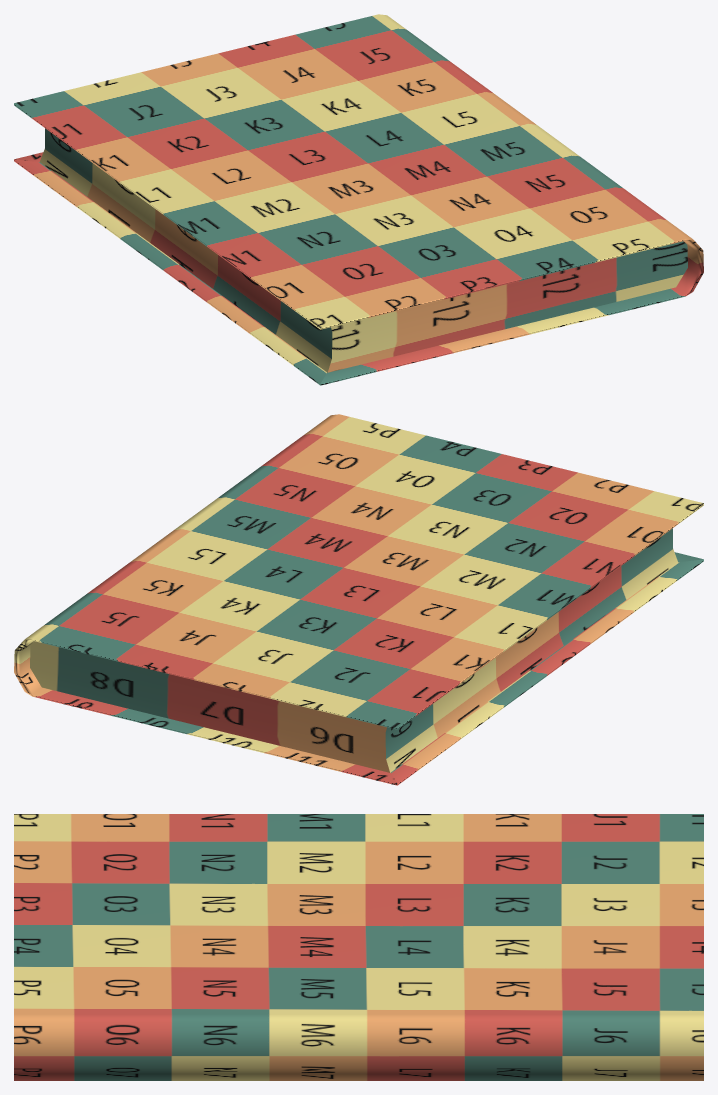
File: SM_Book_01a.fbx
3 renders of one model, top to bottom at view 1: azimuth 30°, elevation 25°; view 2: azimuth 150°, elevation 25°; view 3: azimuth 270°, elevation 25°, orthographic. The views are drawn at different scales.
Visible parts, largest first — view 1: SM_Book_01a; view 2: SM_Book_01a; view 3: SM_Book_01a.
Boxes of the visible parts, <box> form: SM_Book_01a: <box>14,14,703,385</box>; SM_Book_01a: <box>14,414,703,785</box>; SM_Book_01a: <box>14,814,703,1080</box>.
Bounding box in the file's own units: 25.24 × 3.65 × 34.94.
1 material, 1 textured.
